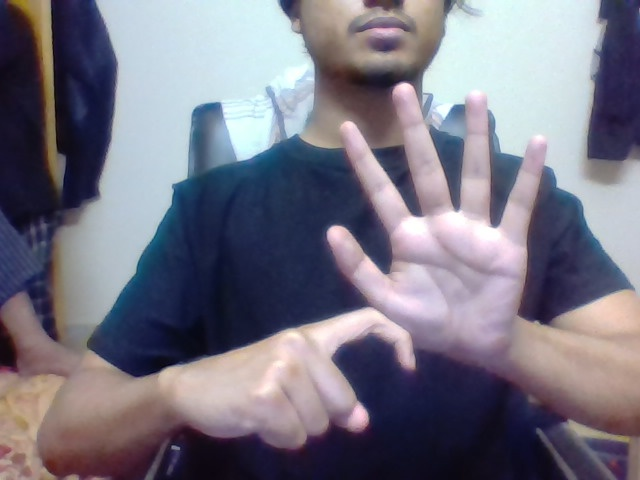R: (299, 300, 418, 435)
